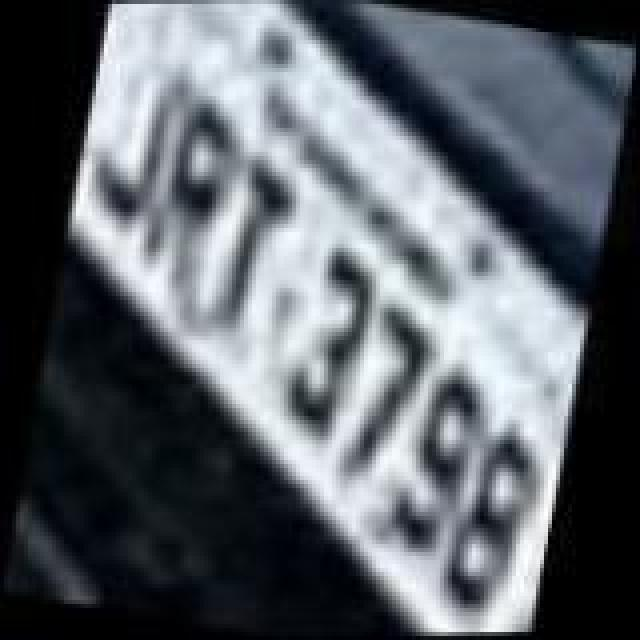3: (274, 236, 386, 448)
7: (336, 294, 448, 498)
8: (426, 422, 550, 626)
9: (380, 364, 500, 564)
J: (70, 54, 178, 226)
R: (128, 92, 248, 300)
T: (200, 152, 304, 344)
